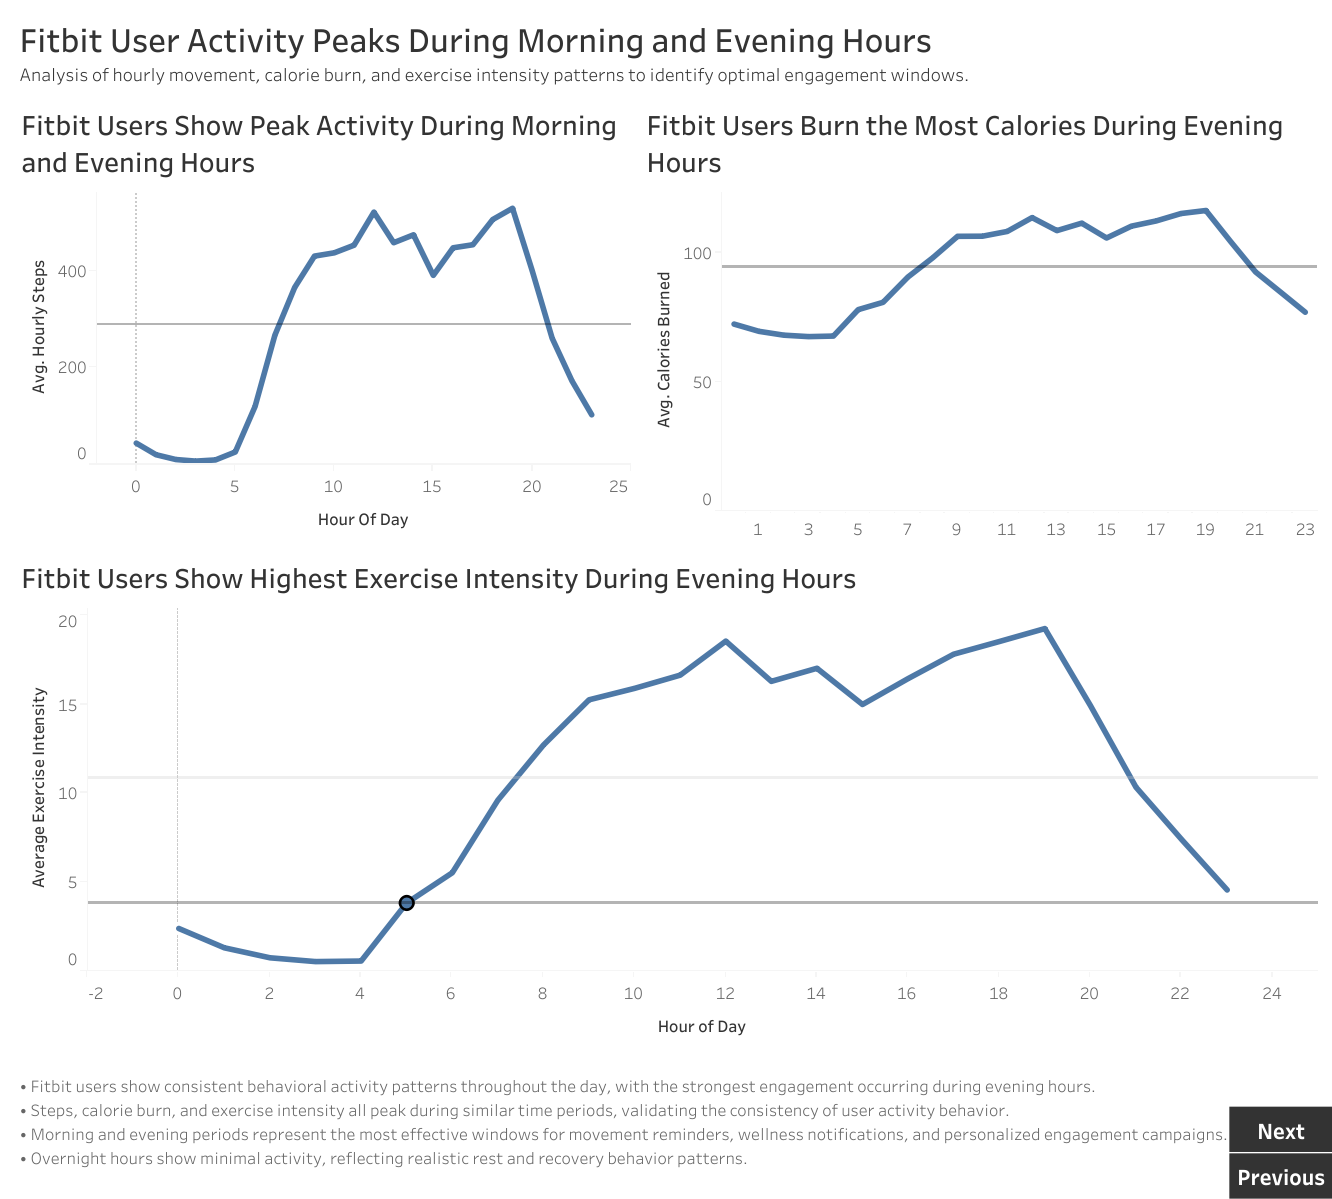

This screenshot's page, from the dashboard's own definition file:
{"tool":"tableau","page":{"name":"Dashboard 2 - Behavioural Timing Patterns","canvas":[1000,900],"ordinal":1},"visuals":[{"type":"title","box":[8,8,984,59]},{"type":"worksheet","title":"Hourly Activity Trend","mark":"Line","rows":["step_total"],"cols":["Calculation_0014093916696646"],"box":[8,67,469,342]},{"type":"worksheet","title":"Hourly Calories Burn Trend","mark":"Line","rows":["calories"],"cols":["Calculation_0014093927809100"],"box":[477,67,515,342]},{"type":"worksheet","title":"Hourly Intensity Trends","mark":"Line","rows":["total_intensity"],"cols":["Calculation_0014093929877581"],"box":[8,409,984,380]},{"type":"text","box":[8,789,984,103]},{"type":"dashboard-object","box":[922,830,78,34]},{"type":"dashboard-object","box":[922,865,78,34]}]}

Visuals, with their boxes in screenshot pixels (x1, y1, x2, y2), scaled from the page's 1000x900 canvas onto the 1332x1199 screenshot:
title: locate(11, 11, 1321, 89)
"Hourly Activity Trend" worksheet (Line marks): locate(11, 89, 635, 545)
"Hourly Calories Burn Trend" worksheet (Line marks): locate(635, 89, 1321, 545)
"Hourly Intensity Trends" worksheet (Line marks): locate(11, 545, 1321, 1051)
text: locate(11, 1051, 1321, 1188)
dashboard-object: locate(1228, 1106, 1331, 1151)
dashboard-object: locate(1228, 1152, 1331, 1198)
